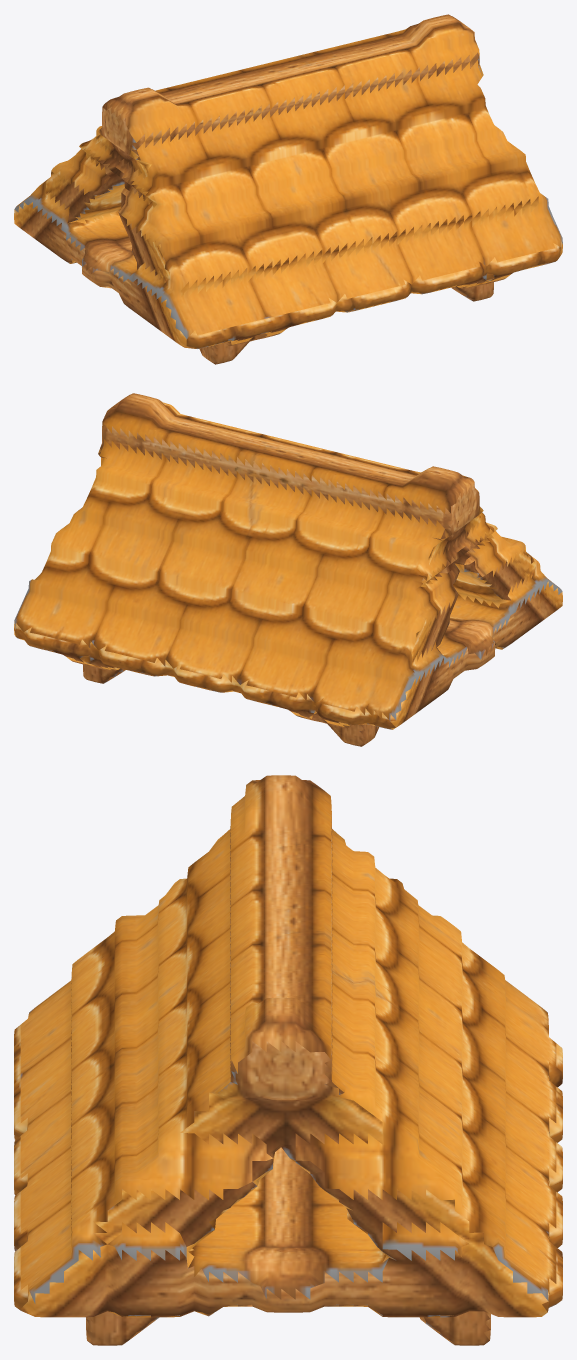
Rendered from well-roof.glb.
3 renders of one model, top to bottom at view 1: azimuth 30°, elevation 25°; view 2: azimuth 150°, elevation 25°; view 3: azimuth 270°, elevation 25°, orthographic. The views are drawn at different scales.
Bounding box in the file's own units: 1.82 × 1 × 1.43.
Materials: 1 (1 with a texture image).
